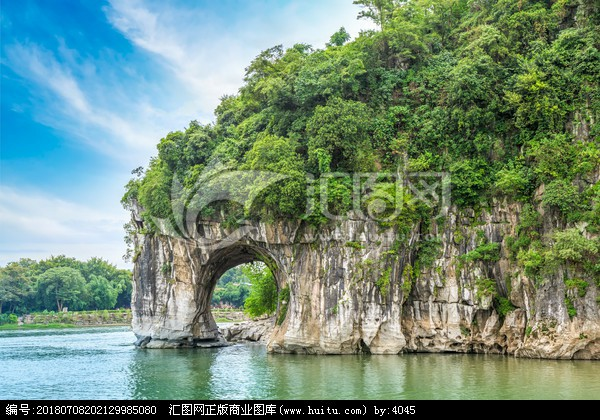xiangbishan: (96, 3, 599, 361)
